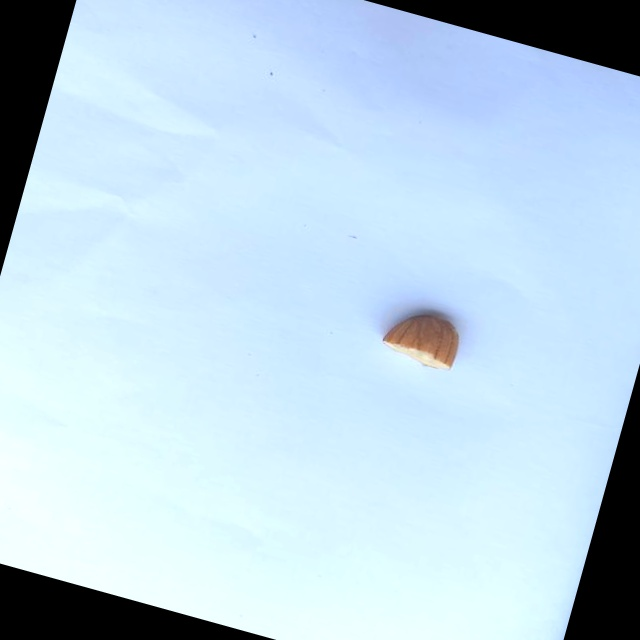grade4: (369, 295, 474, 379)
